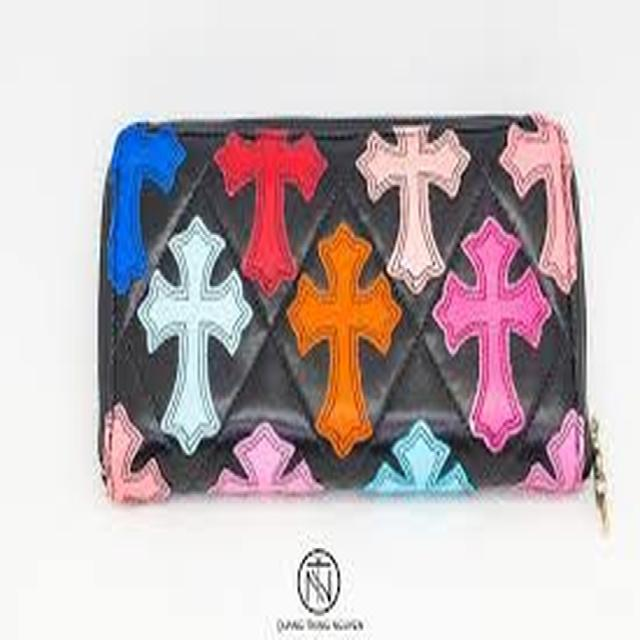wallet: (80, 92, 623, 554)
